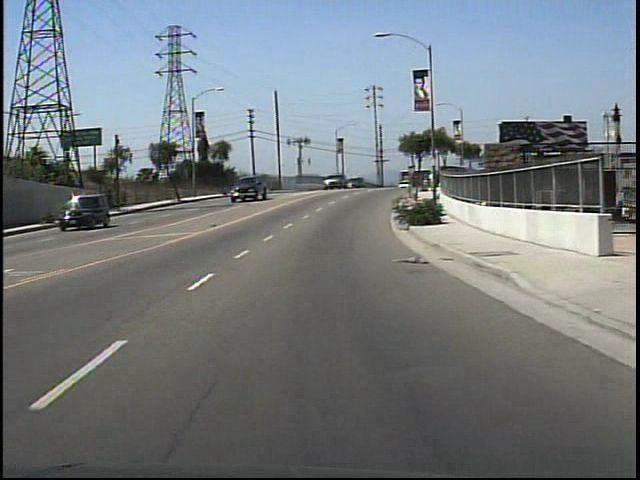person: (427, 169, 438, 196)
